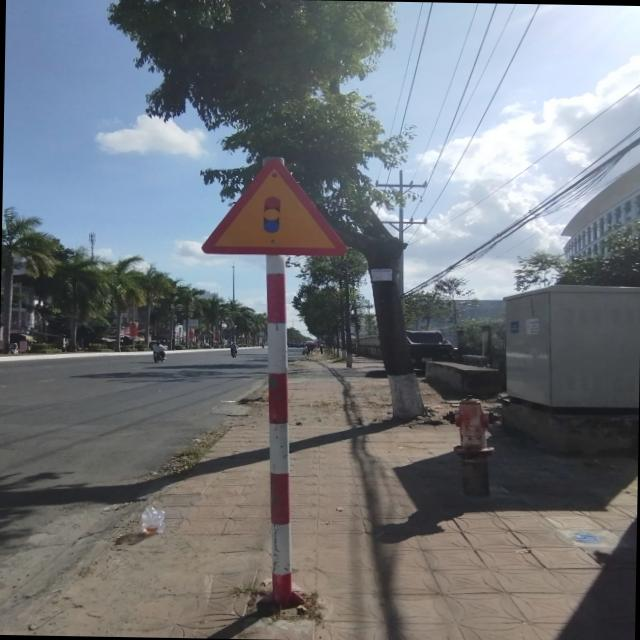Duong_Co_Go_Giam_Toc: (200, 156, 350, 256)
